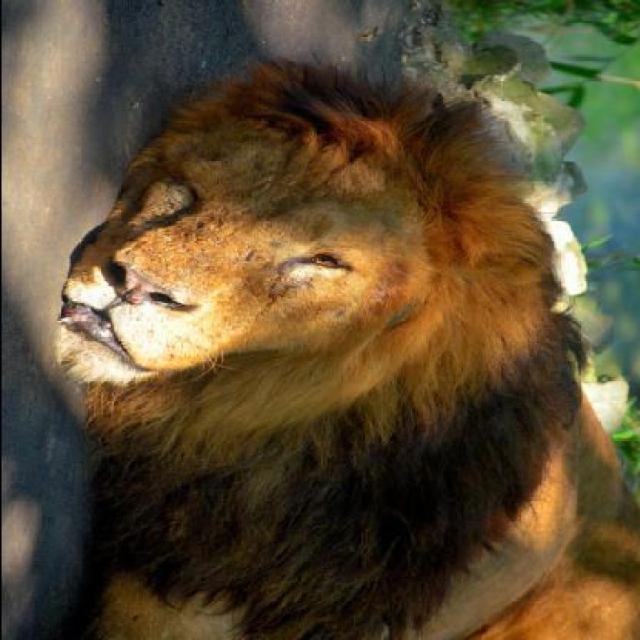Lion: (1, 60, 632, 638)
